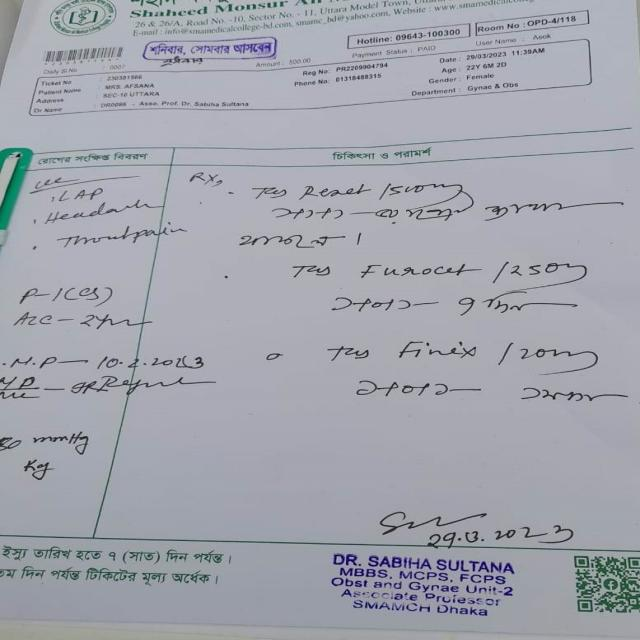Finix: (391, 333, 490, 367)
Furocef: (353, 257, 478, 289)
Reset: (287, 177, 376, 207)
